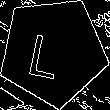L_N: (33, 23, 73, 79)
